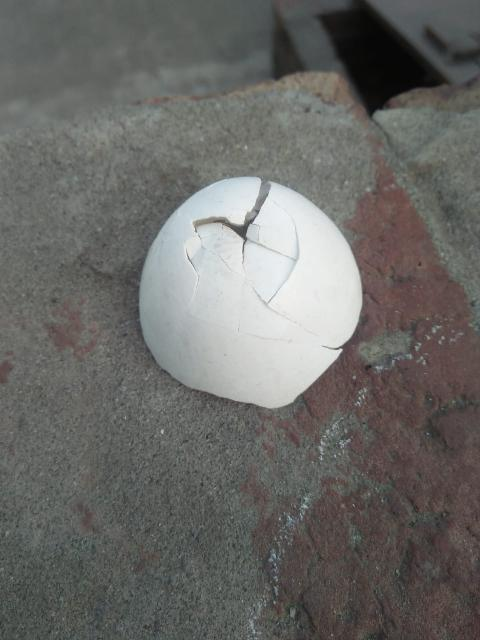Roto: (137, 174, 363, 409)
